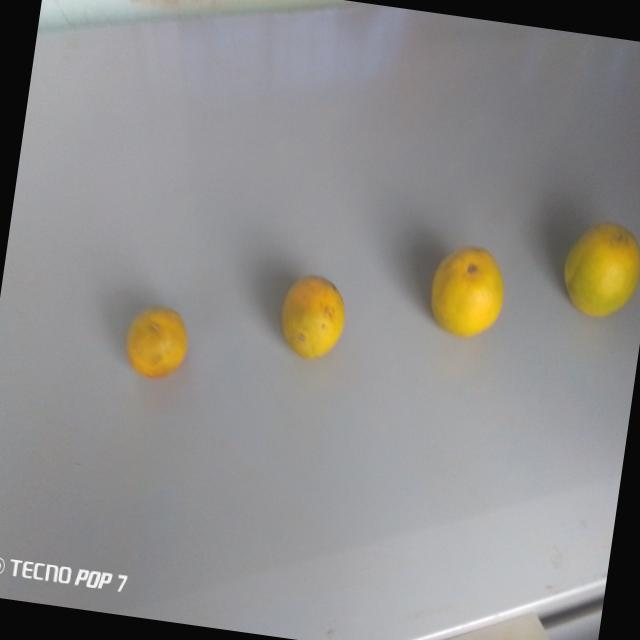Ripe orange: (421, 243, 514, 346), (557, 214, 640, 328), (272, 264, 354, 377), (120, 294, 195, 392)
